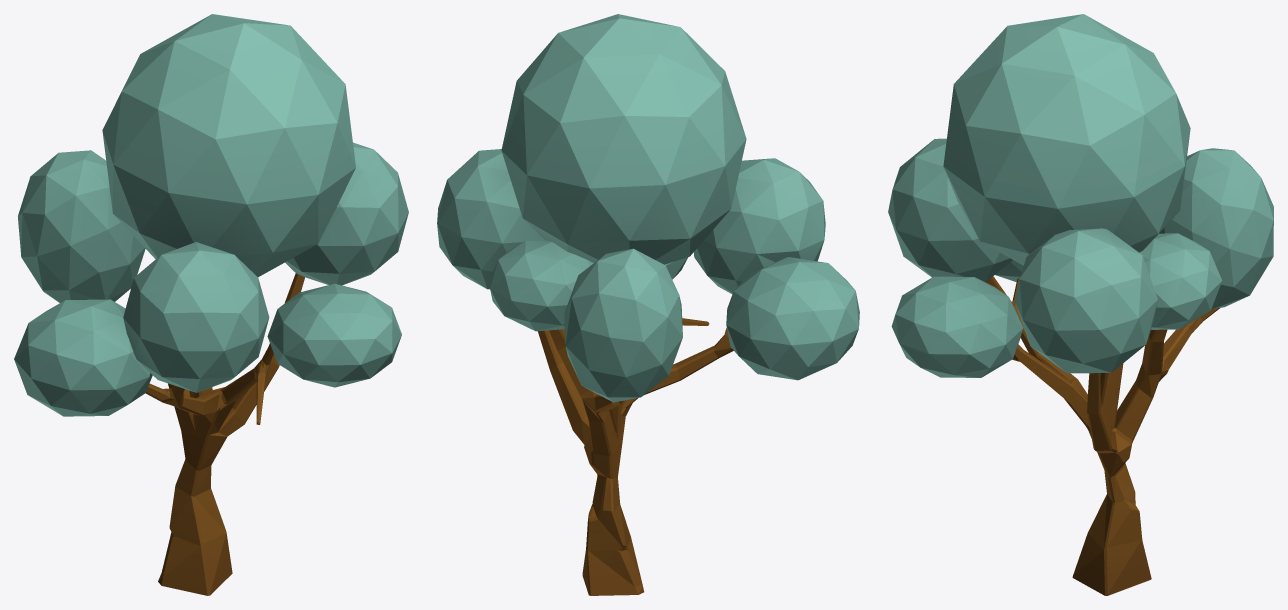
The model's file is tree_cluster.glb.
3 renders of one model, left to right at view 1: azimuth 30°, elevation 25°; view 2: azimuth 150°, elevation 25°; view 3: azimuth 270°, elevation 25°, orthographic. The views are drawn at different scales.
Visible parts, largest first — view 1: tree_cluster; view 2: tree_cluster; view 3: tree_cluster.
Boxes of the visible parts, box(x1,y1,x2,y2) form: tree_cluster: box(14, 14, 408, 595); tree_cluster: box(437, 14, 859, 595); tree_cluster: box(888, 14, 1273, 595).
Size of the model in its own units: 2.87 by 3.9 by 2.42.
Materials: 1 (1 with a texture image).
